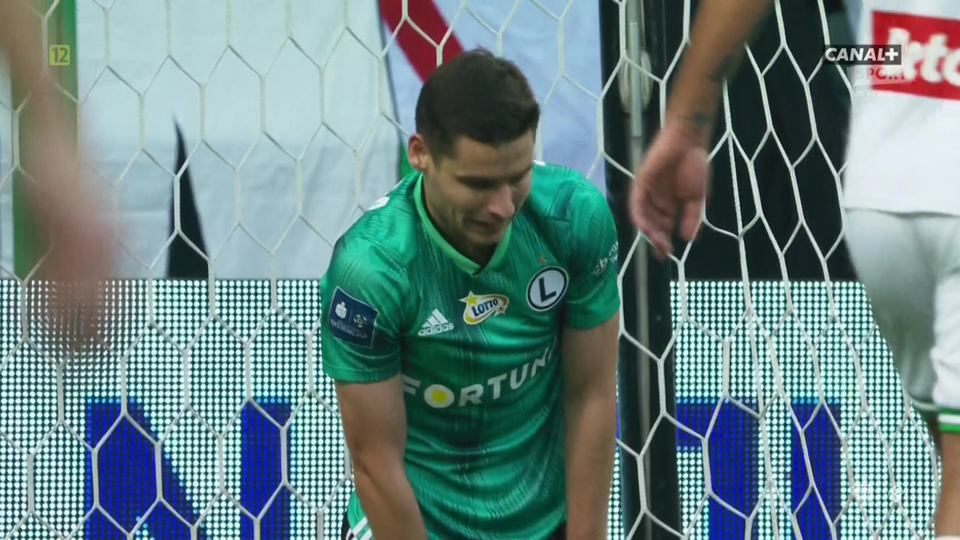Adidas: (416, 307, 454, 337)
